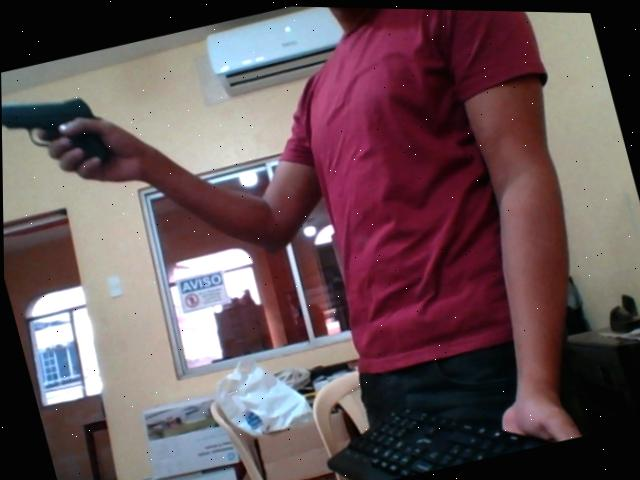pistol: (1, 78, 111, 185)
